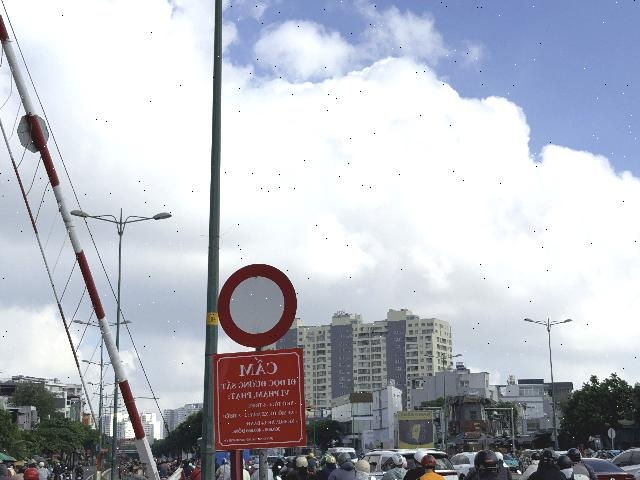duong-cam: (218, 263, 296, 348)
